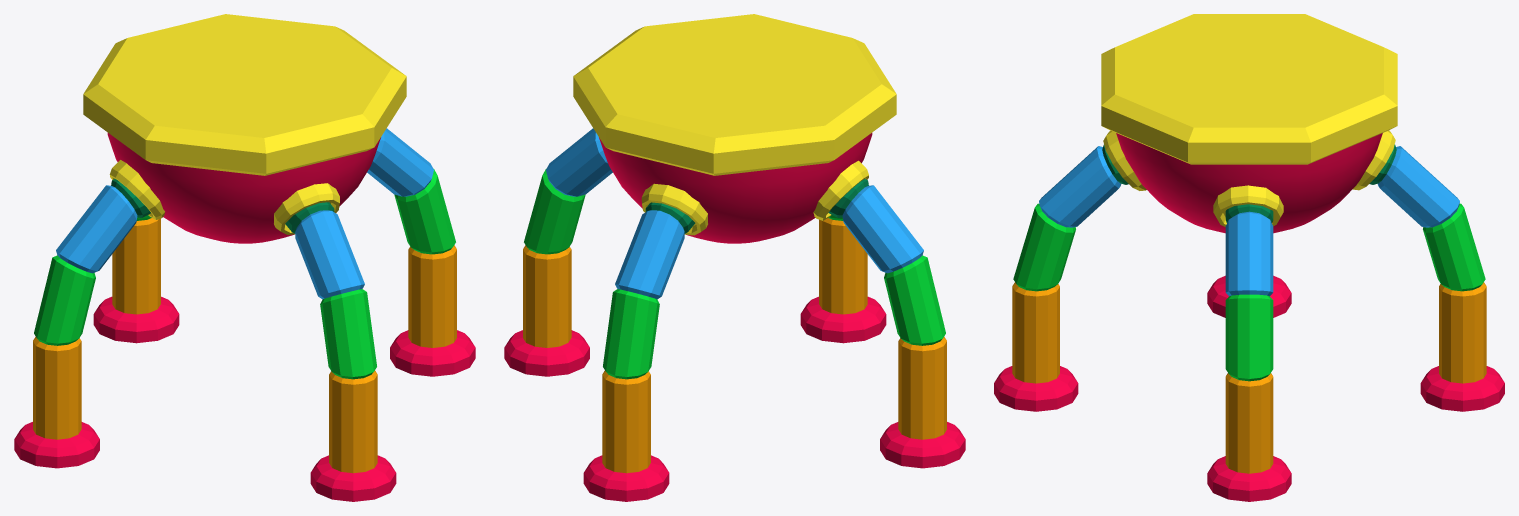
Rendered from BottomBaseRobot.fbx.
3 views of the same model, side by side, from view 1: azimuth 30°, elevation 25°; view 2: azimuth 150°, elevation 25°; view 3: azimuth 270°, elevation 25° (orthographic).
Parts seen in each view (by area): view 1: Circle.015; view 2: Circle.015; view 3: Circle.015.
Part boxes in pixels (box(x1,y1,x2,y2)): Circle.015: box(14, 14, 475, 501); Circle.015: box(504, 14, 965, 501); Circle.015: box(994, 14, 1504, 501).
Bounding box in the file's own units: 2539 × 1773 × 2539.
